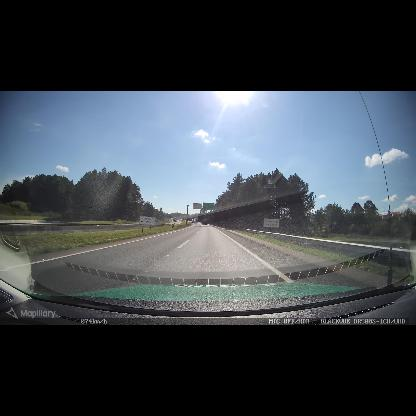I-SA: (263, 218, 280, 228), (139, 216, 156, 225)
O-MP: (172, 224, 174, 229)
